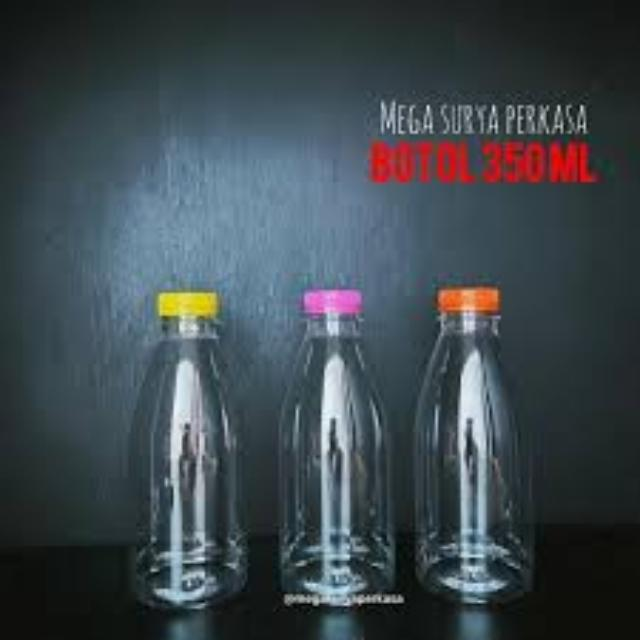trash: (87, 272, 259, 614), (276, 290, 420, 616), (415, 278, 549, 604)
